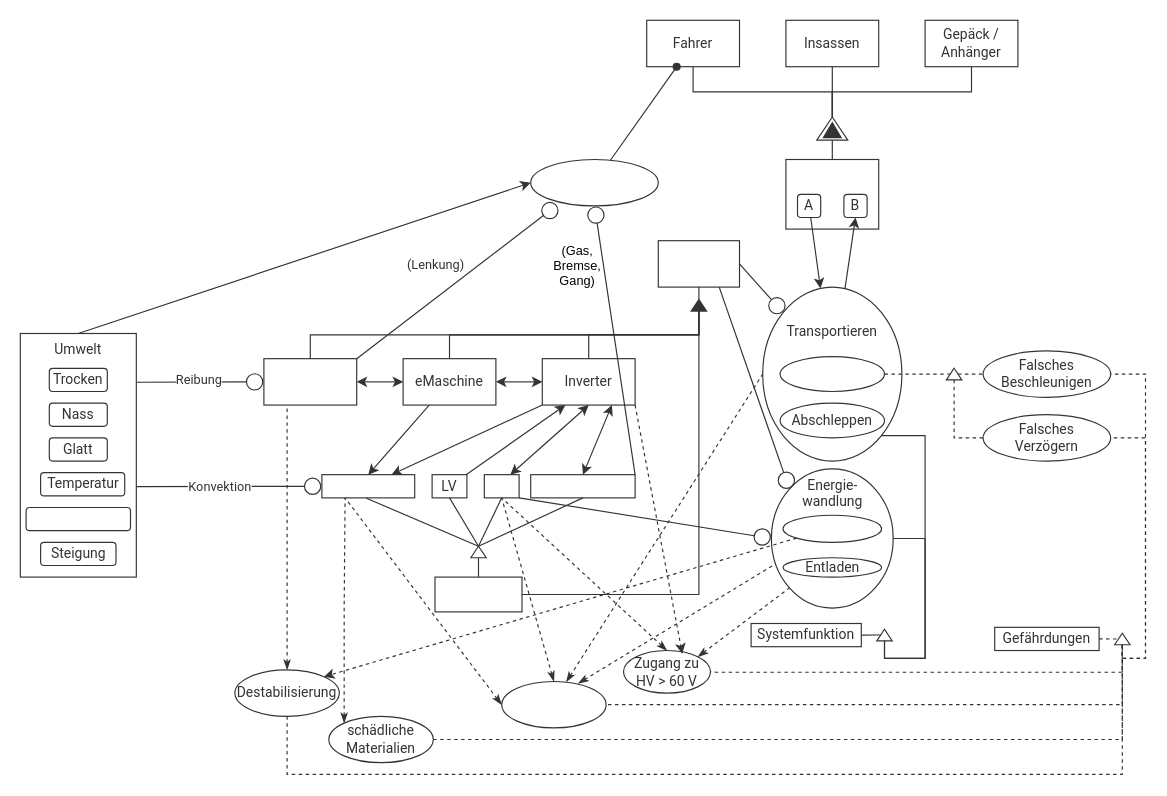
This 1167x796 diagram has some shape labels left out. The box of each missing label's shape, as (x1, y1, x2, y2) in pixels:
Antriebstrang- mechanik: (263, 358, 357, 405)
Beschleunigen: (779, 356, 884, 392)
ePowertrain: (657, 240, 740, 287)
externe Schnittstellen: (434, 576, 522, 612)
HV: (483, 474, 519, 498)
Kommunikation: (530, 474, 635, 498)
Kühlung: (321, 474, 415, 498)
Ort: (785, 158, 879, 229)
Rekuperieren: (782, 514, 882, 542)
steuert: (530, 158, 658, 206)
Straßenzustand: (25, 506, 130, 531)
thermisches Ereignis: (501, 680, 606, 728)
